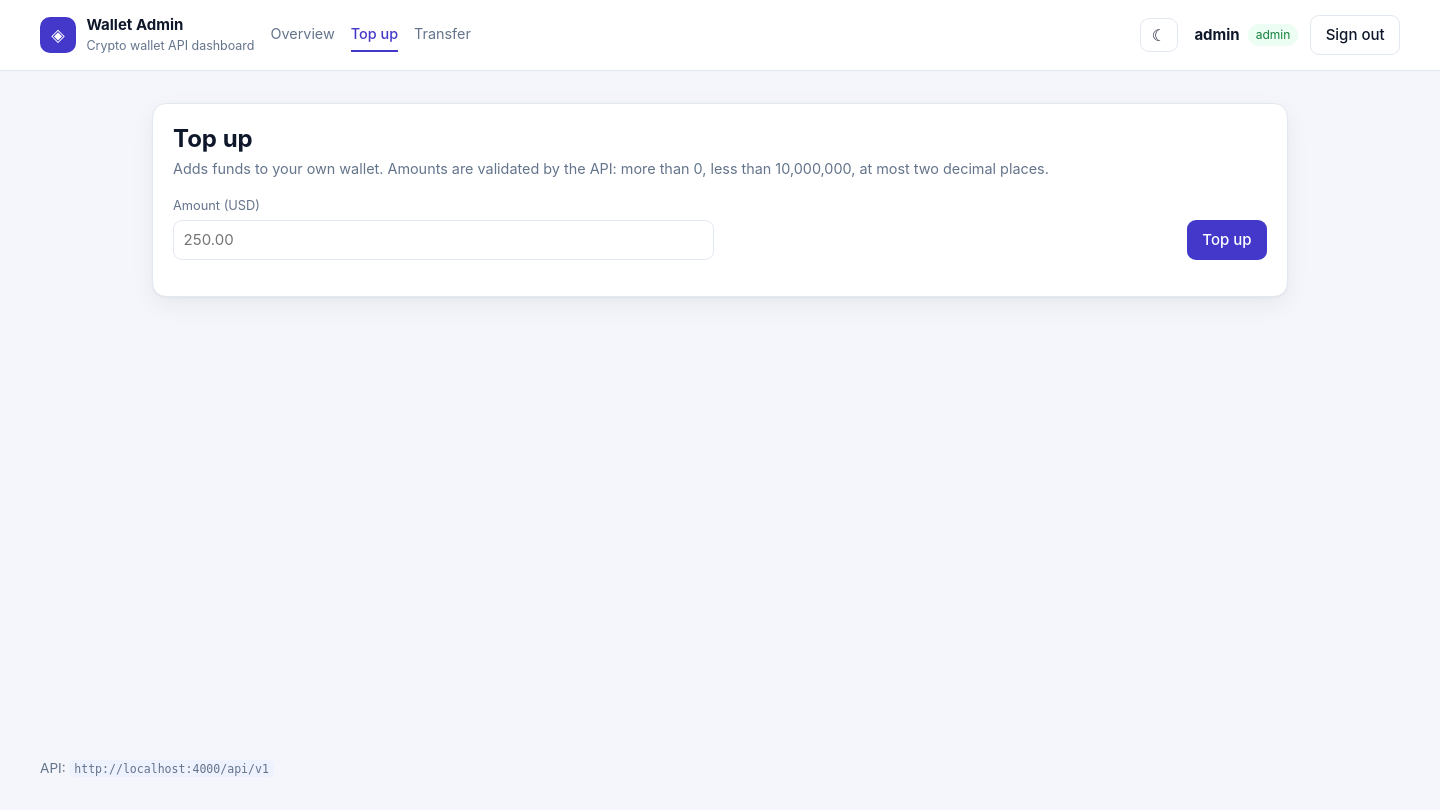
top up › shows the API message when the amount is rejected
The image size is (1440, 810).
Type "1.005" into the field labelled "Amount (USD)" at [444, 240], box [173,220,714,260]
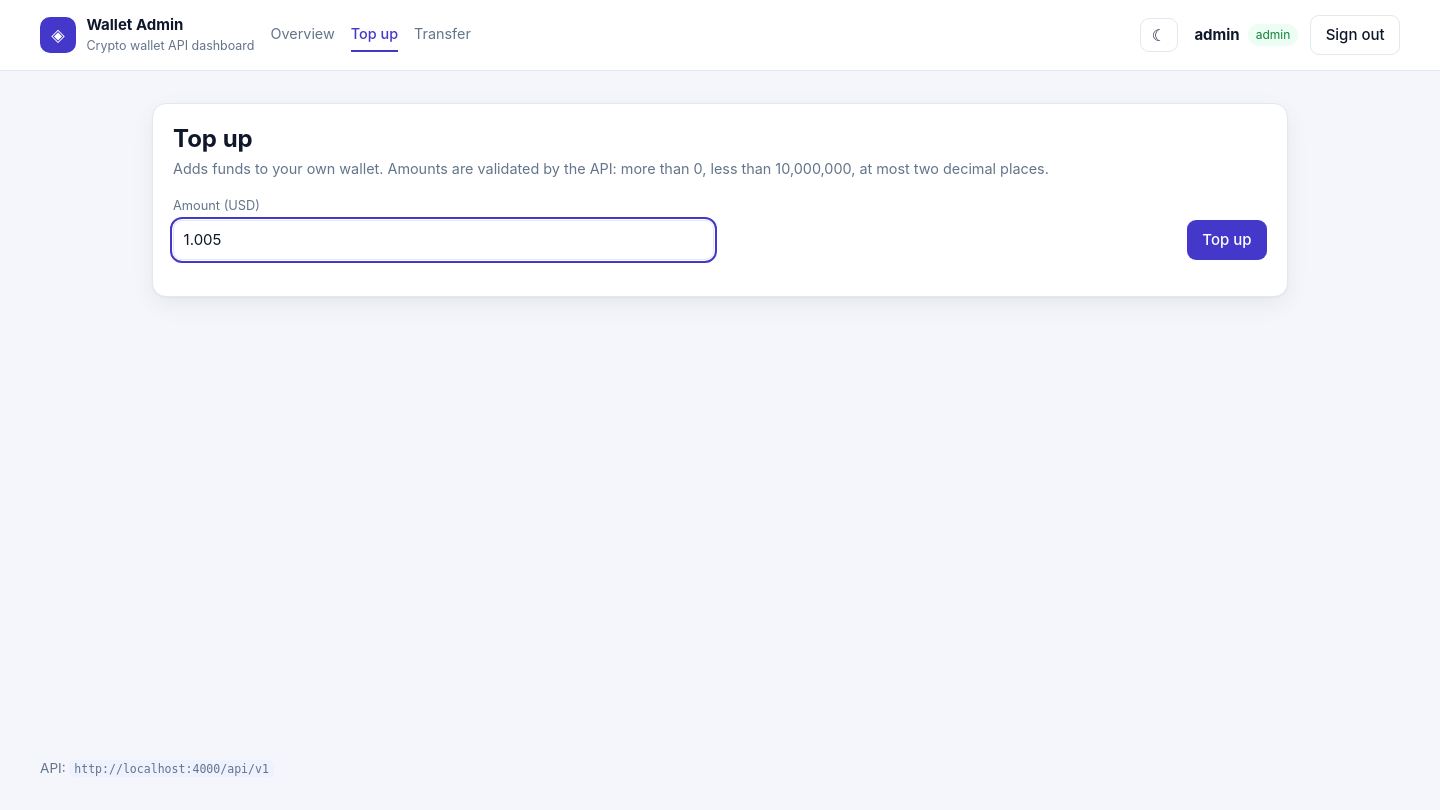
Click the button "Top up" at [1227, 240], box [1187,220,1267,260]
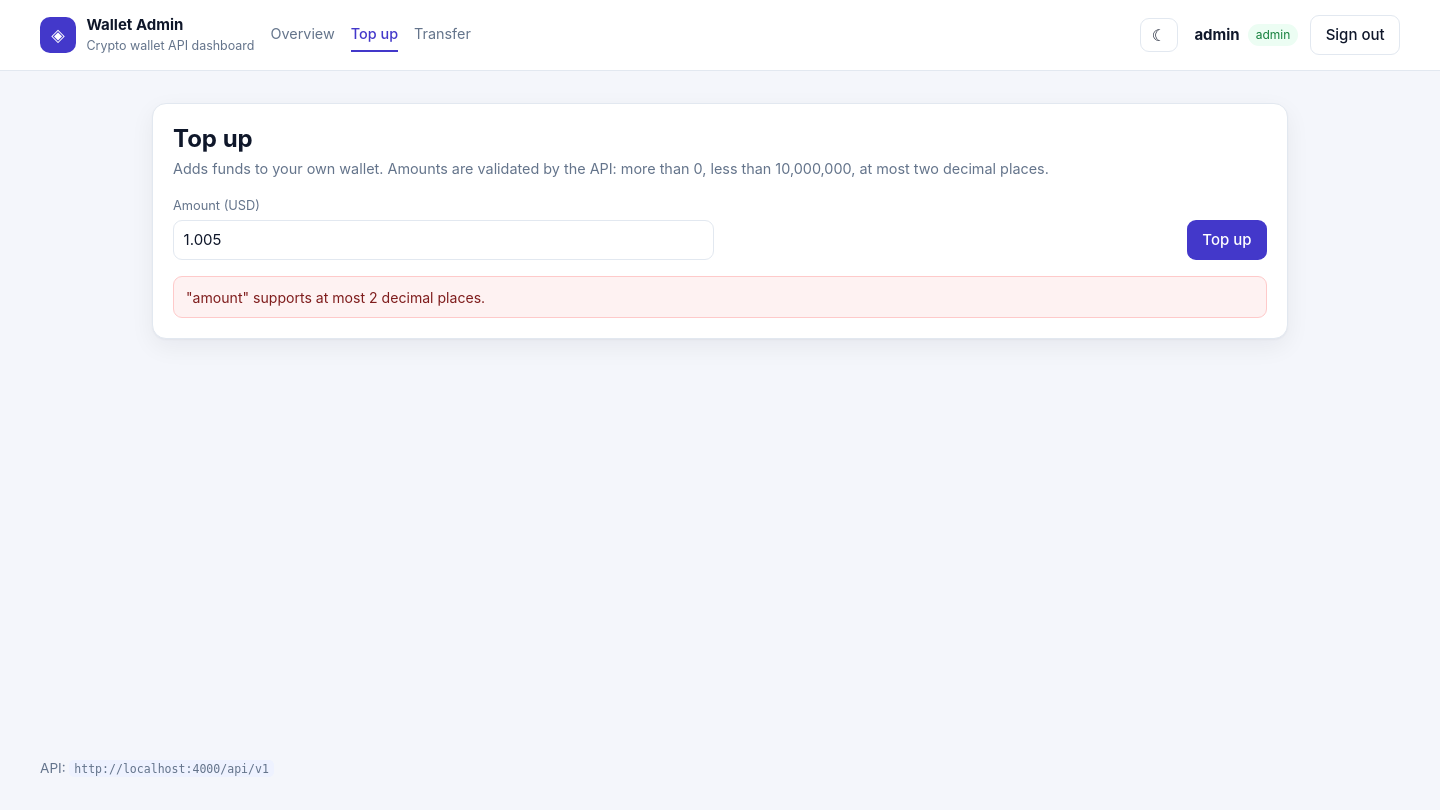
Now the message reads "\"amount\" supports at most 2 decimal places.", box [186,289,485,306]
